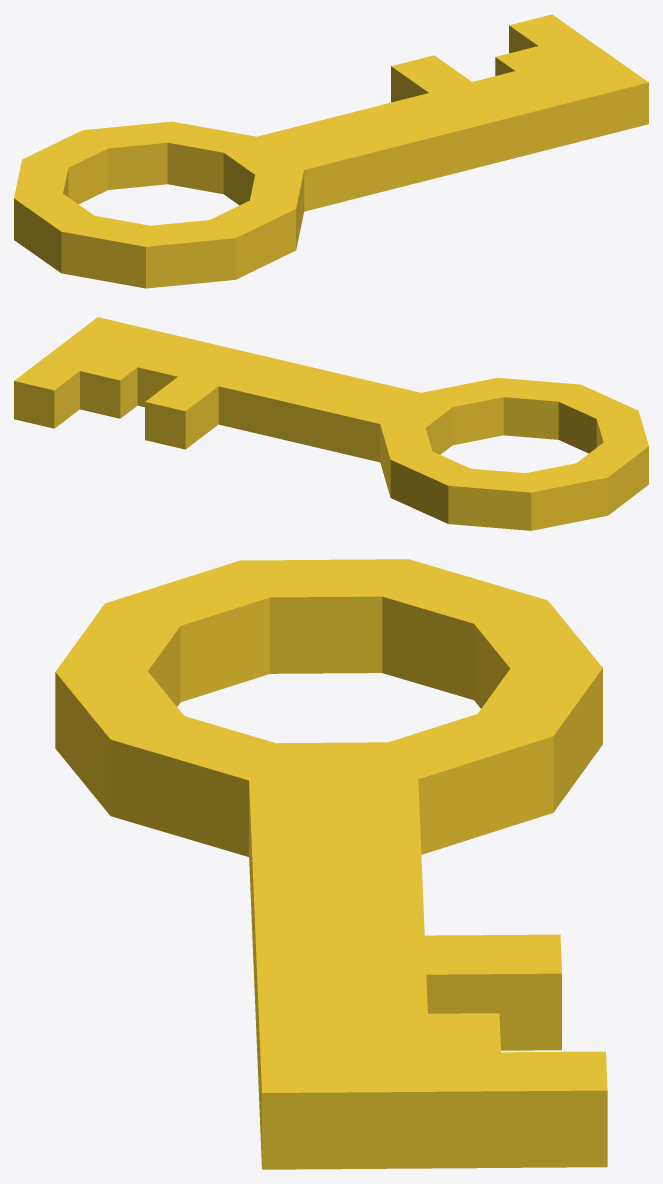
File: key01.obj
3 views of the same model, one above another, from view 1: azimuth 30°, elevation 25°; view 2: azimuth 150°, elevation 25°; view 3: azimuth 270°, elevation 25° (orthographic). The views are drawn at different scales.
Visible parts, largest first — view 1: Cylinder; view 2: Cylinder; view 3: Cylinder.
Boxes of the visible parts, box(x1,y1,x2,y2) form: Cylinder: box(14, 14, 648, 288); Cylinder: box(14, 317, 648, 530); Cylinder: box(55, 559, 607, 1169).
Bounding box in the file's own units: 0.1228 × 0.00822 × 0.0537.
